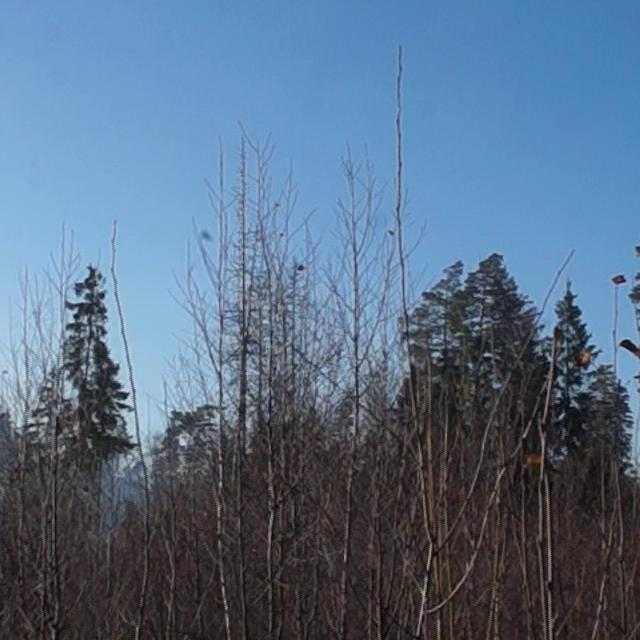Smoke: (88, 455, 161, 527), (1, 405, 22, 466)
